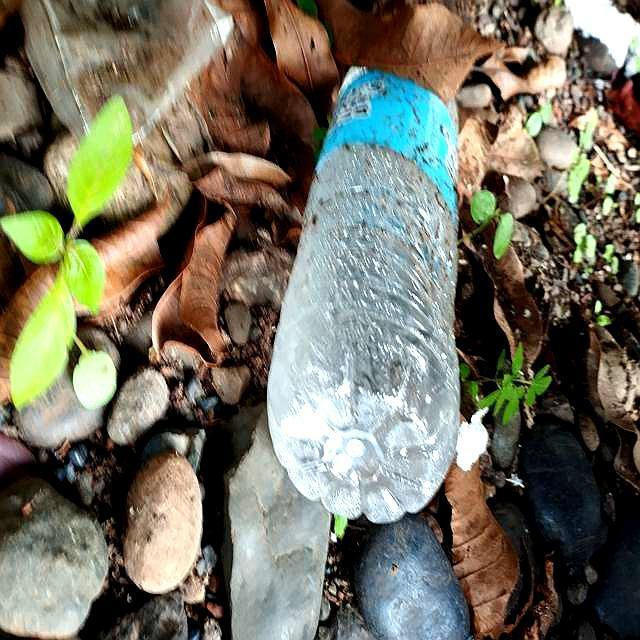Non-biodegradable: (267, 63, 463, 521)
